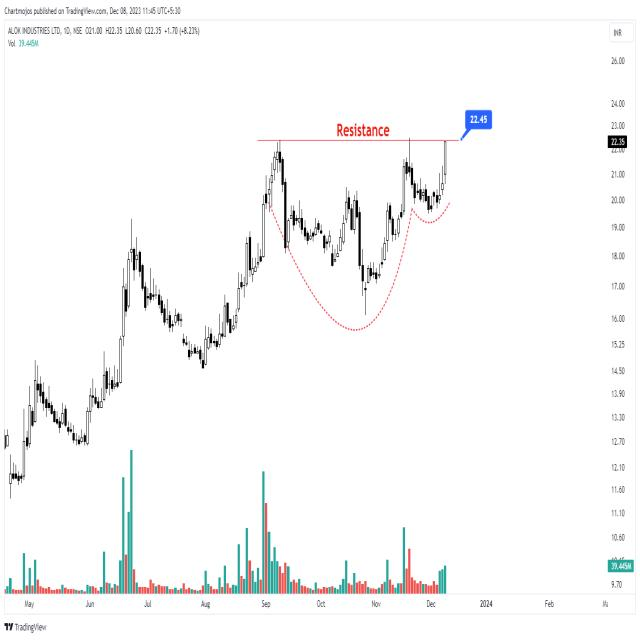Cup-and-handle: (264, 143, 456, 328)
